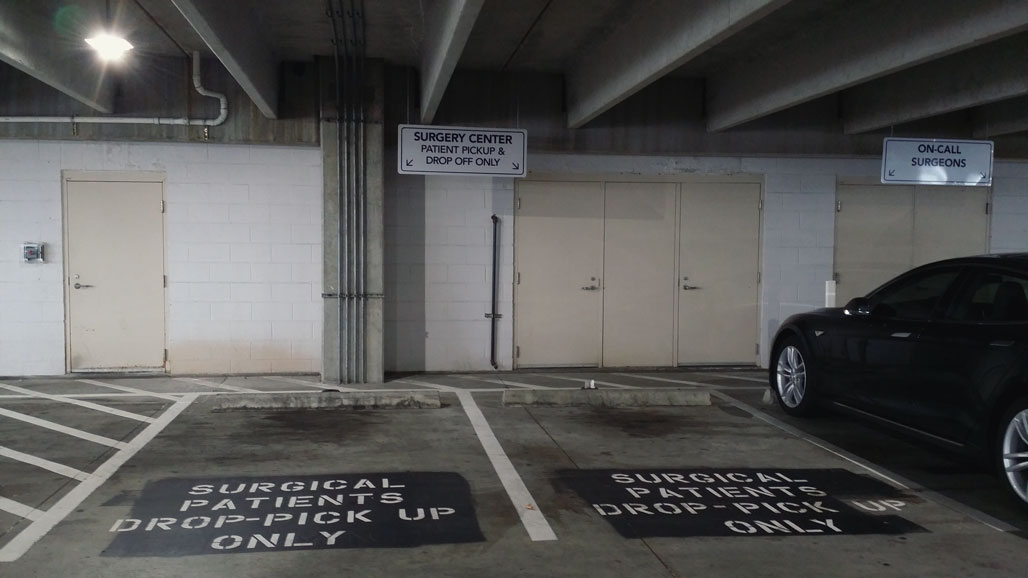empyt_space: (451, 377, 1026, 578), (5, 385, 558, 572)
